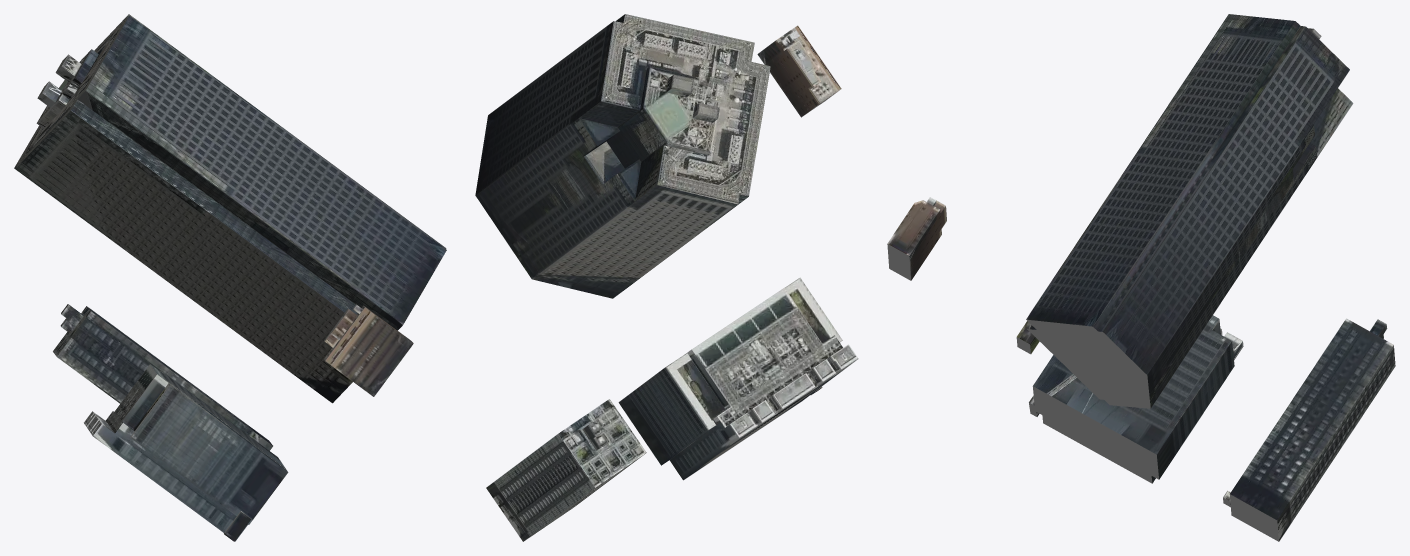
The model's file is data269.glb.
The picture shows the model from 3 angles, left to right: view 1: azimuth 30°, elevation 25°; view 2: azimuth 150°, elevation 25°; view 3: azimuth 270°, elevation 25°; orthographic projection. The views are drawn at different scales.
Size of the model in its own units: 143 by 197 by 191.
2 materials, 1 textured.
